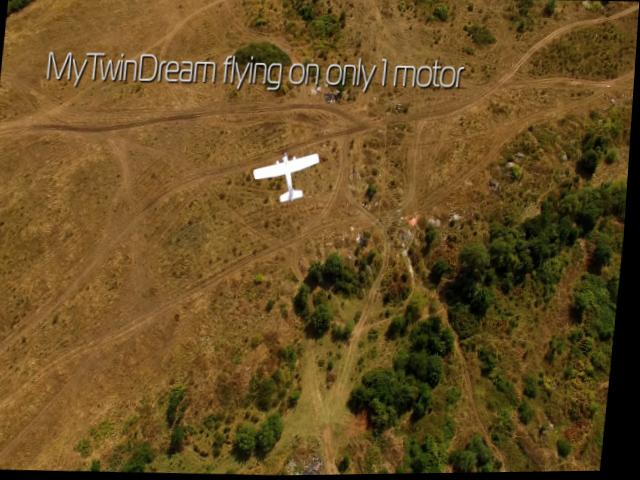plane: (251, 148, 322, 205)
